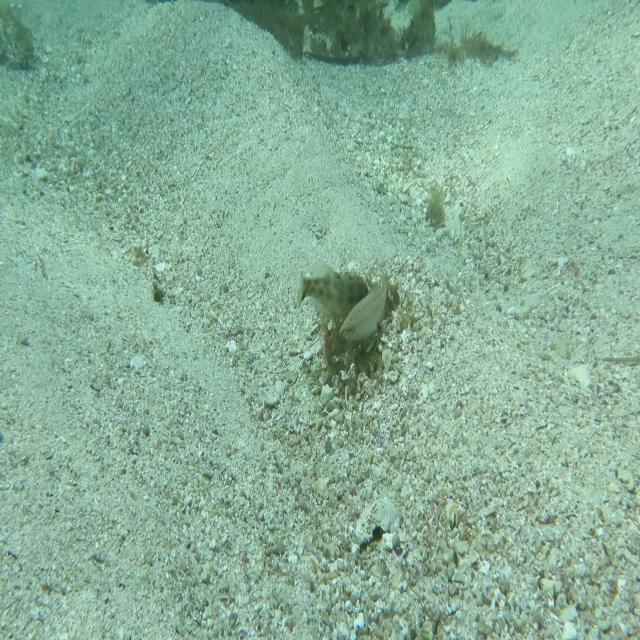SPA: (294, 255, 372, 338)
female: (338, 268, 393, 348)
nest: (321, 263, 413, 385)
vegetation: (238, 0, 508, 65), (422, 173, 447, 234)
